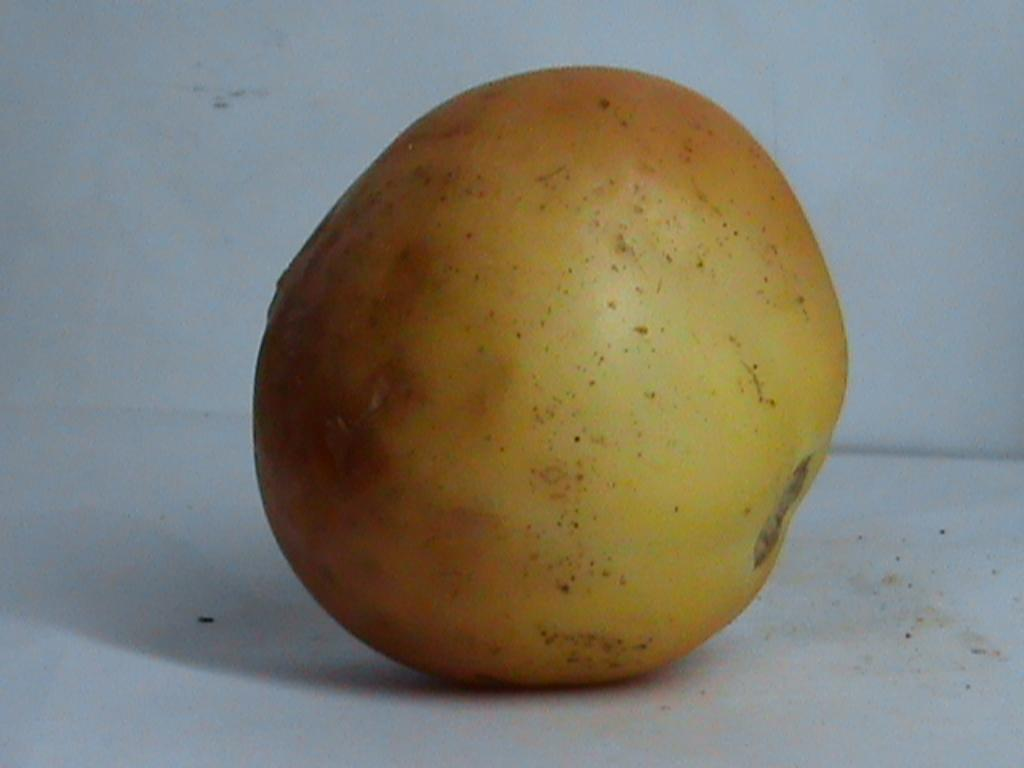bruise_discoloration: (387, 157, 847, 677)
tomato: (258, 69, 845, 683)
